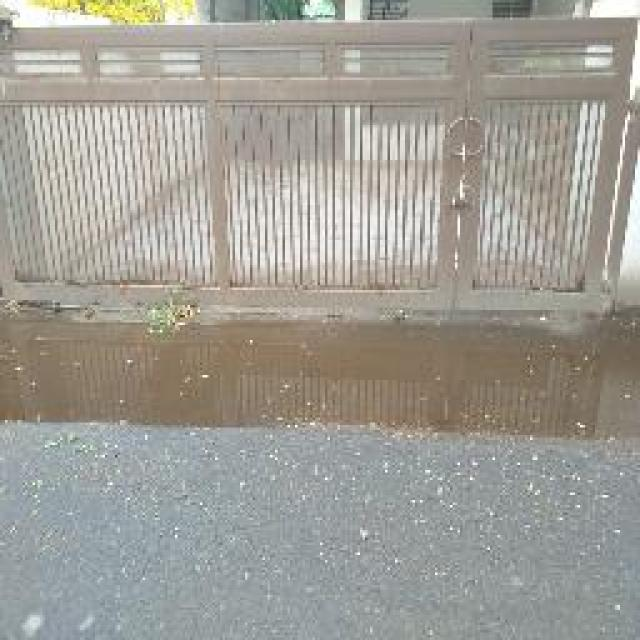puddle: (2, 318, 640, 435)
